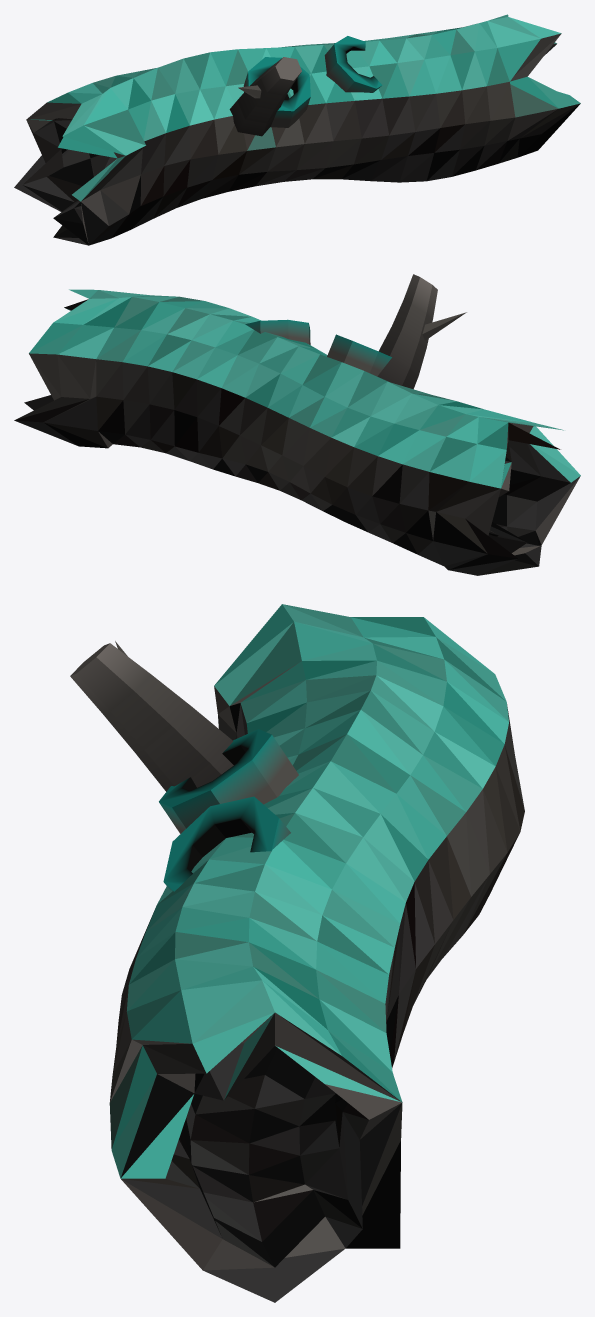
Rendered from pohon_tumbang_hollow_swamp_75785 (1).glb.
3 views of the same model, one above another, from view 1: azimuth 30°, elevation 25°; view 2: azimuth 150°, elevation 25°; view 3: azimuth 270°, elevation 25° (orthographic). The views are drawn at different scales.
Visible parts, largest first — view 1: Batang_Pohon_Berlubang; view 2: Batang_Pohon_Berlubang; view 3: Batang_Pohon_Berlubang.
Part boxes in pixels (<box>): Batang_Pohon_Berlubang: <box>14,14,580,245</box>; Batang_Pohon_Berlubang: <box>14,274,580,575</box>; Batang_Pohon_Berlubang: <box>70,604,524,1302</box>.
Bounding box in the file's own units: 5.56 × 2.05 × 2.26.
